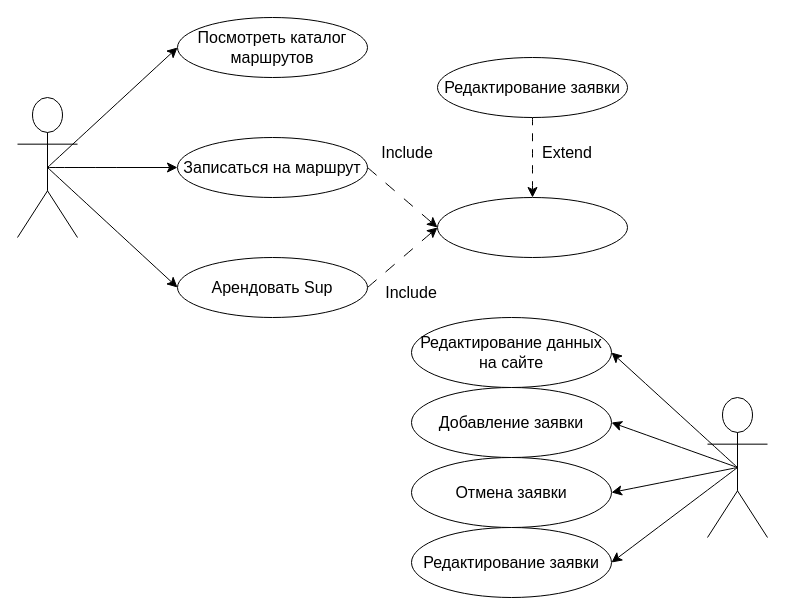
This 785x615 diagram has some shape labels left out. The box of each missing label's shape, as (x1, y1, x2, y2) in pixels:
Admin: (706, 396, 768, 538)
User: (16, 96, 78, 238)
Оформление заявки: (436, 196, 628, 258)
